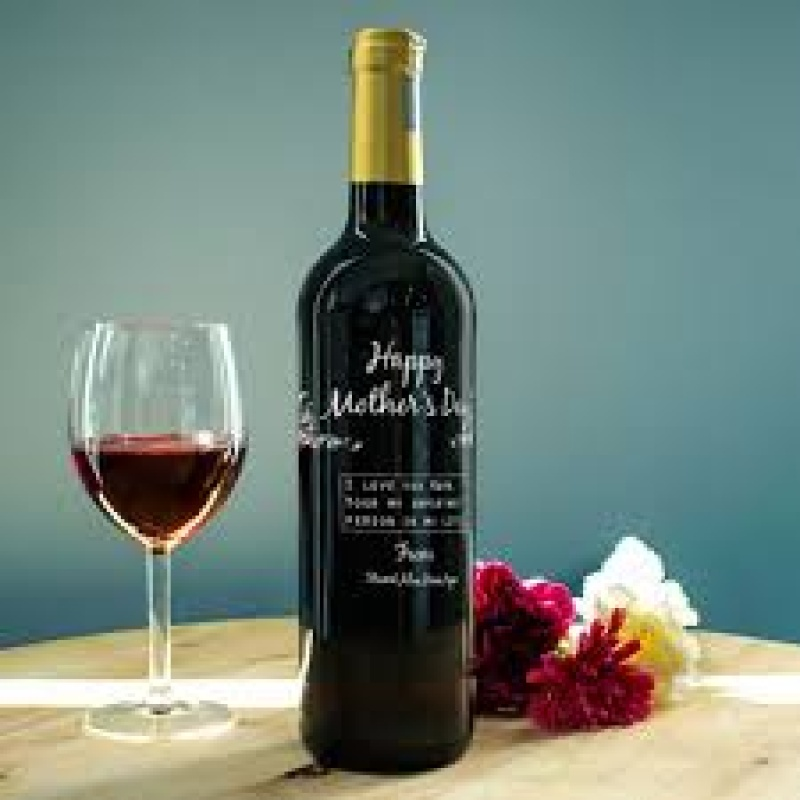wine: (288, 28, 480, 760)
